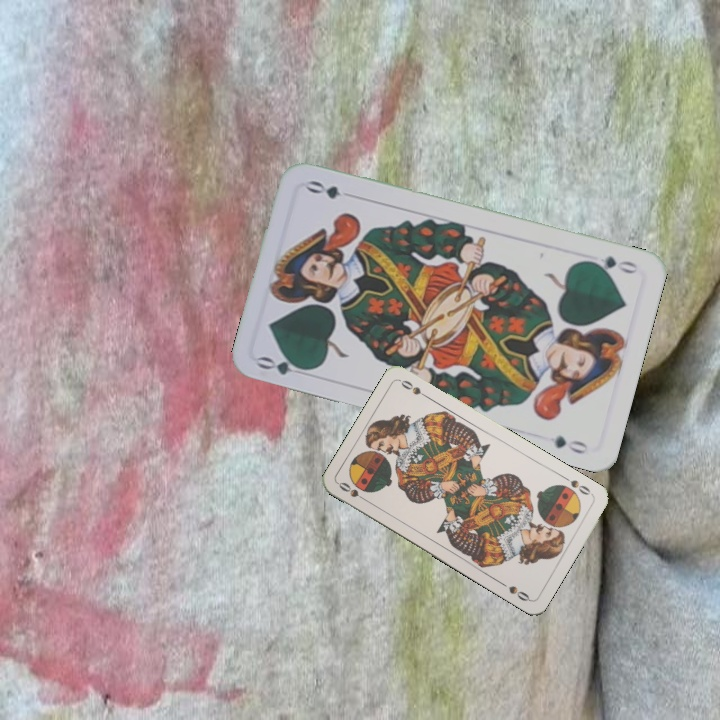GO: (253, 351, 314, 378), (582, 251, 640, 277)
SO: (334, 478, 371, 505), (559, 472, 596, 499)
